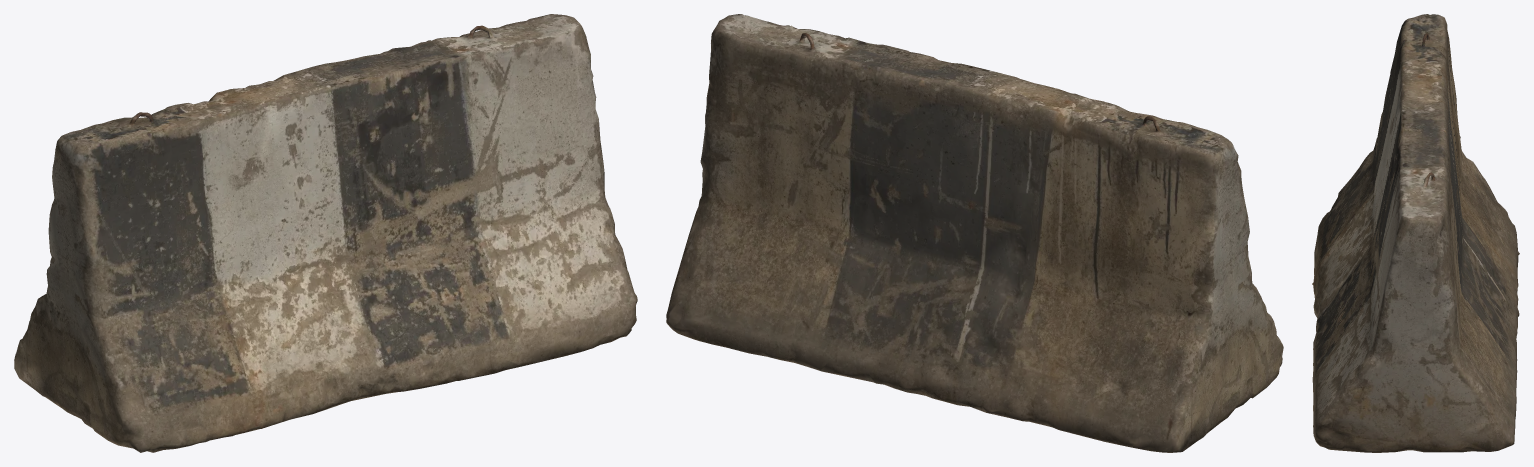
The model's file is concrete_road_barrier.glb.
The picture shows the model from 3 angles, left to right: view 1: azimuth 30°, elevation 25°; view 2: azimuth 150°, elevation 25°; view 3: azimuth 270°, elevation 25°; orthographic projection. The views are drawn at different scales.
Visible parts, largest first — view 1: concrete_road_barrier; view 2: concrete_road_barrier; view 3: concrete_road_barrier.
Part boxes in pixels (x1,y1,x2,y2): concrete_road_barrier: (14,14,637,452); concrete_road_barrier: (666,14,1283,452); concrete_road_barrier: (1312,14,1519,452).
Bounding box in the file's own units: 1.54 × 0.8304 × 0.6387.
1 material, 1 textured.
